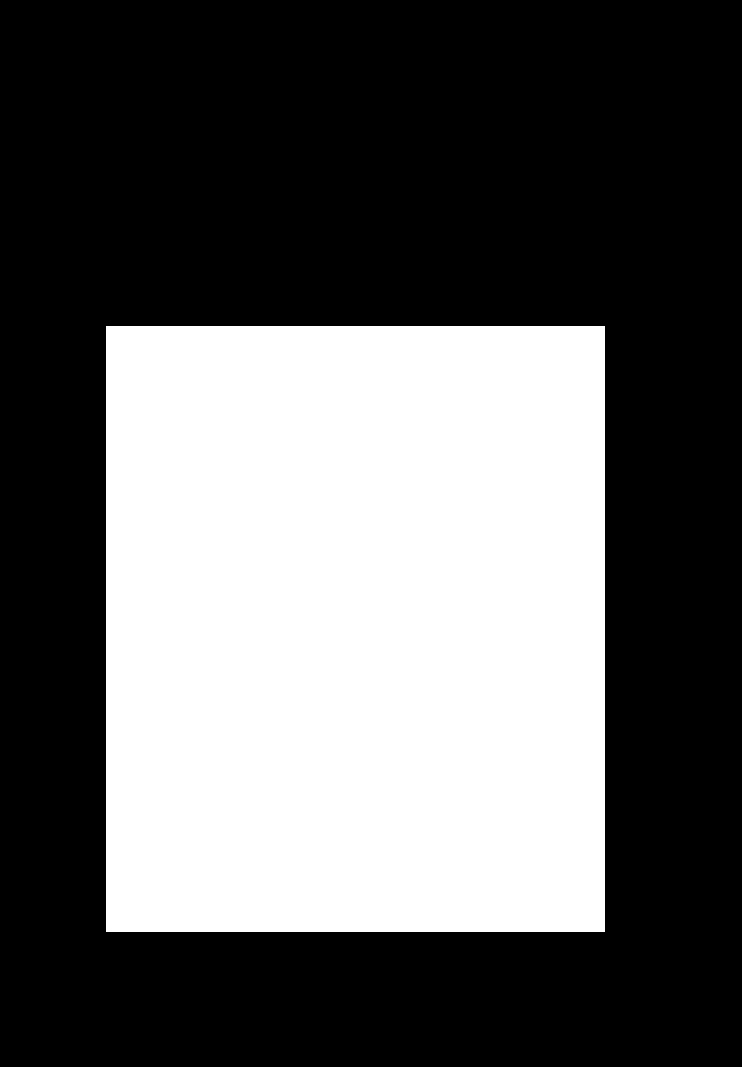table: (106, 326, 604, 931)
